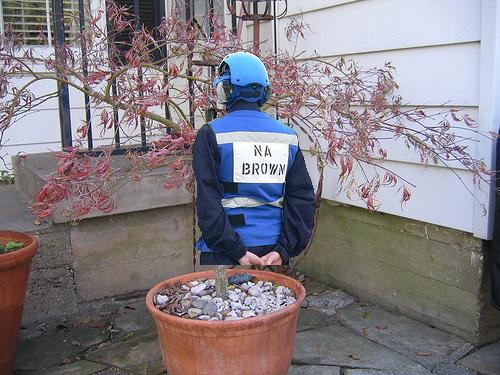tampered: (193, 52, 316, 265)
